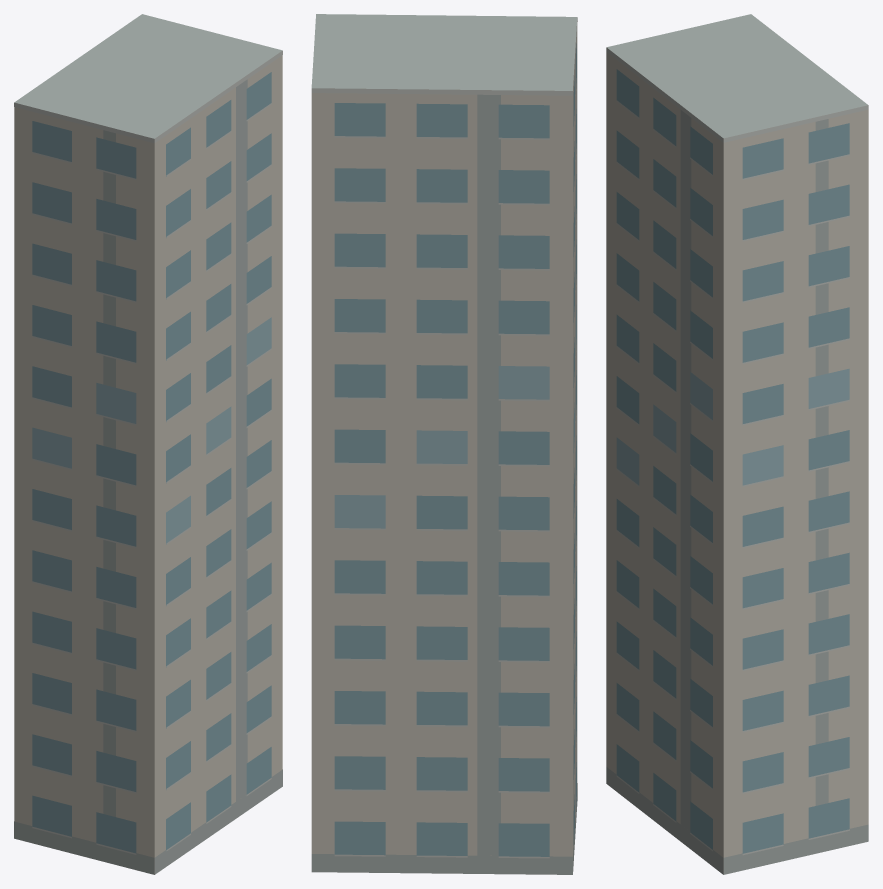
Rendered from residential-ca23cacd-8b66-41f2-a006-dfa7ef074e1a.glb.
3 views of the same model, side by side, from view 1: azimuth 30°, elevation 25°; view 2: azimuth 150°, elevation 25°; view 3: azimuth 270°, elevation 25° (orthographic). The views are drawn at different scales.
Parts seen in each view (by area): view 1: residential-ca23cacd-8b66-41f2-a006-dfa7ef074e1a.tmp; view 2: residential-ca23cacd-8b66-41f2-a006-dfa7ef074e1a.tmp; view 3: residential-ca23cacd-8b66-41f2-a006-dfa7ef074e1a.tmp.
Part boxes in pixels (left/top/right/bottom): residential-ca23cacd-8b66-41f2-a006-dfa7ef074e1a.tmp: left=14, top=14, right=282, bottom=874; residential-ca23cacd-8b66-41f2-a006-dfa7ef074e1a.tmp: left=311, top=14, right=577, bottom=874; residential-ca23cacd-8b66-41f2-a006-dfa7ef074e1a.tmp: left=606, top=14, right=868, bottom=874.
Size of the model in its own units: 14.5 by 40 by 12.91.
